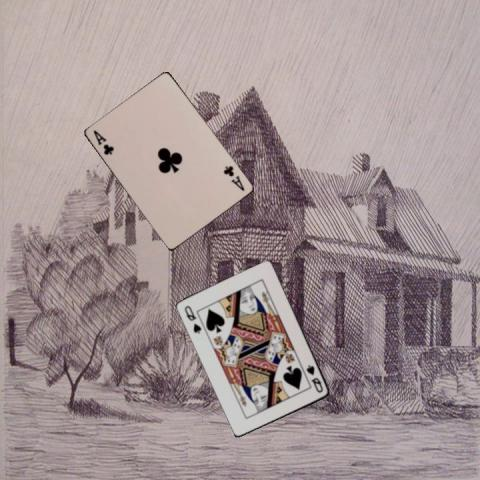Ac: (221, 162, 246, 192), (91, 127, 115, 157)
Qs: (304, 362, 325, 394), (182, 302, 203, 334)
